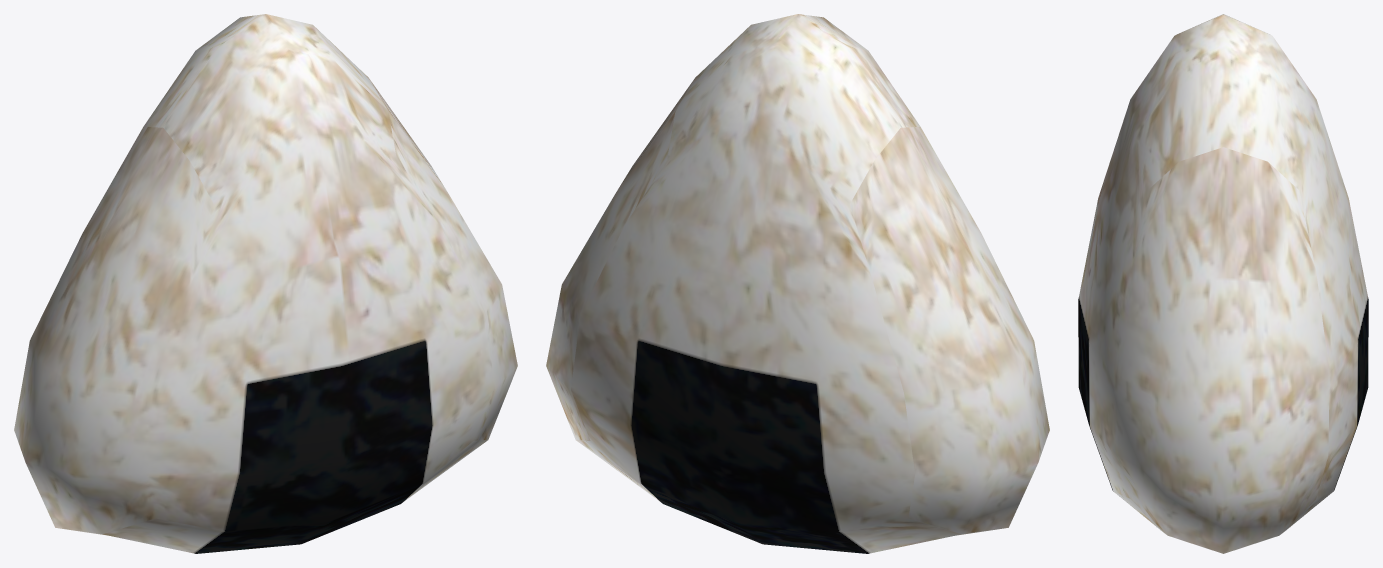
File: onigiri.fbx
3 views of the same model, side by side, from view 1: azimuth 30°, elevation 25°; view 2: azimuth 150°, elevation 25°; view 3: azimuth 270°, elevation 25° (orthographic). The views are drawn at different scales.
Parts seen in each view (by area): view 1: pCube1; view 2: pCube1; view 3: pCube1.
Boxes of the visible parts, left/top/right/bottom form: pCube1: left=14, top=14, right=517, bottom=553; pCube1: left=546, top=14, right=1049, bottom=553; pCube1: left=1078, top=14, right=1368, bottom=553.
Size of the model in its own units: 8.44 by 8.7 by 4.62.
